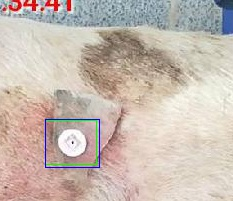text: (45, 120, 96, 164)
